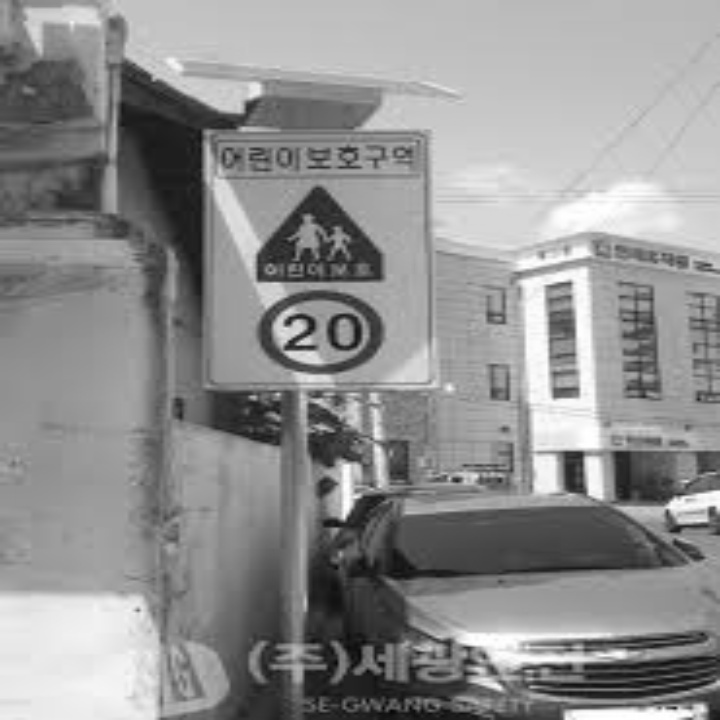child: (274, 206, 364, 256)
